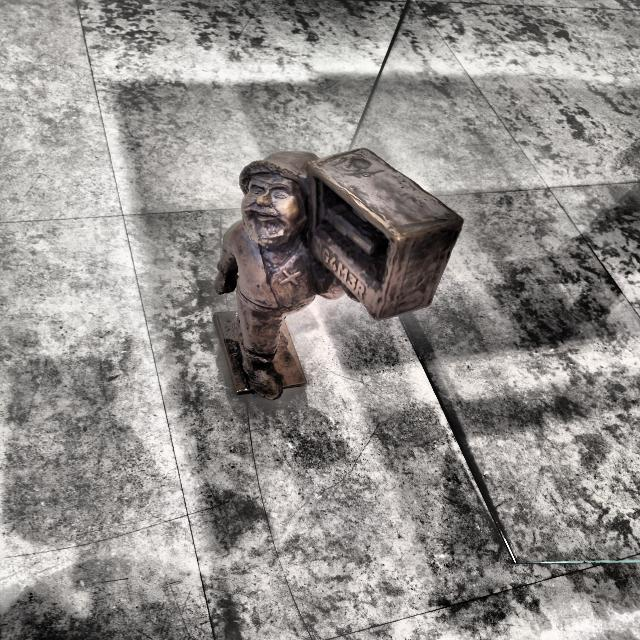GigaHercjusz: (215, 149, 463, 400), (273, 255, 278, 258)
